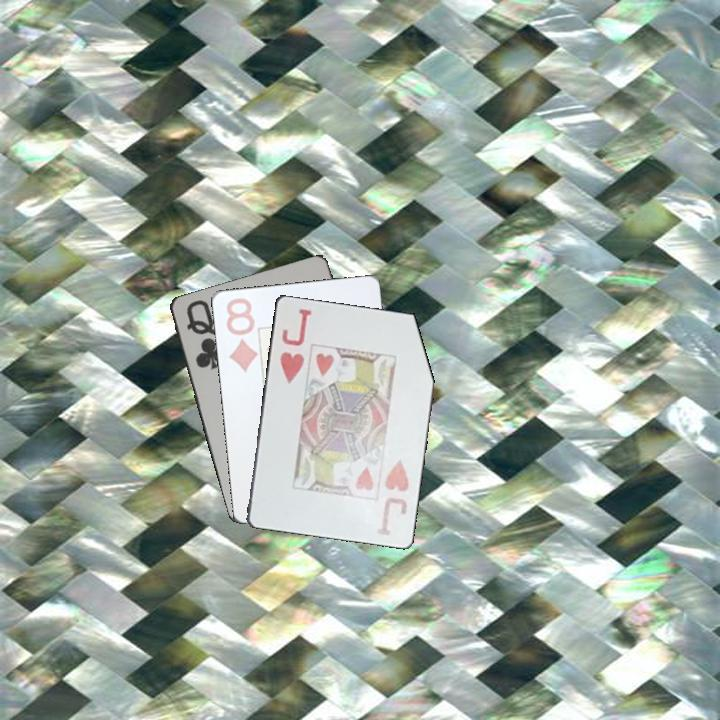8d: (222, 294, 259, 375)
Jh: (374, 455, 412, 538), (276, 305, 314, 386)
Qc: (182, 296, 227, 373)
